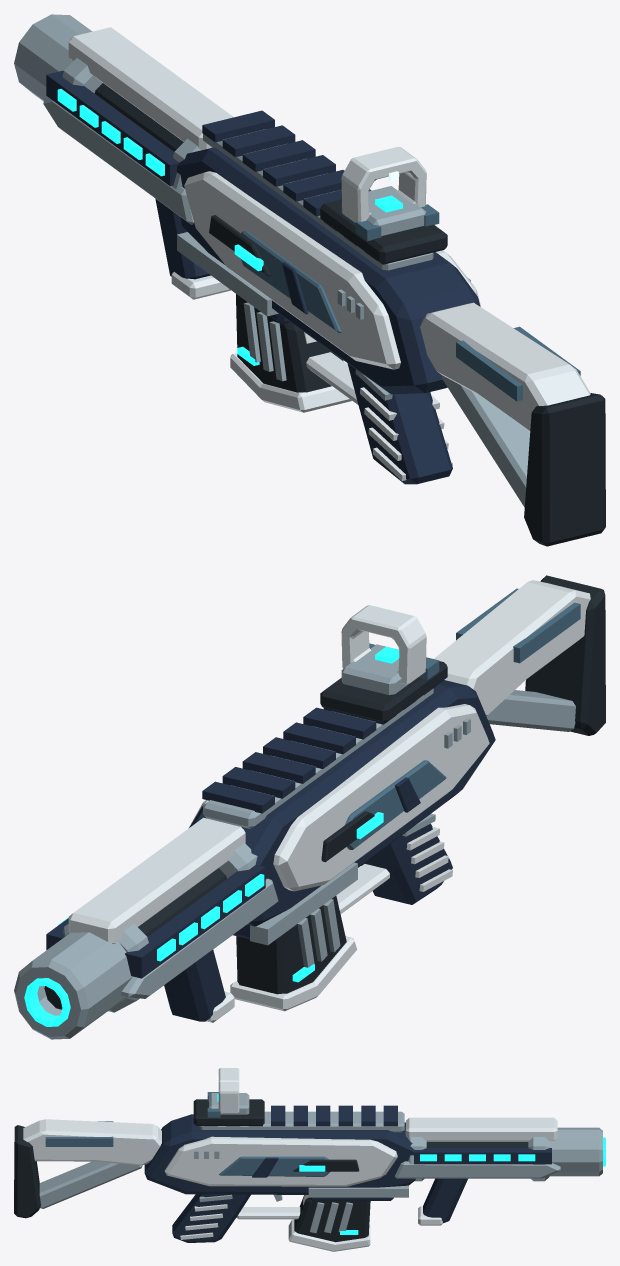
The model's file is helion_pulse_rifle.glb.
The picture shows the model from 3 angles, top to bottom: view 1: azimuth 30°, elevation 25°; view 2: azimuth 150°, elevation 25°; view 3: azimuth 270°, elevation 25°; orthographic projection. The views are drawn at different scales.
Visible parts, largest first — view 1: Upper and lower receiver | Geometry, Skeletal stock | Geometry, Pulse accelerator shroud | Geometry, Open reflex optic | Geometry, Grip and finger loop | Geometry, Removable energy magazine | Geometry, Forward muzzle | Geometry; view 2: Upper and lower receiver | Geometry, Pulse accelerator shroud | Geometry, Skeletal stock | Geometry, Open reflex optic | Geometry, Forward muzzle | Geometry, Removable energy magazine | Geometry, Grip and finger loop | Geometry; view 3: Upper and lower receiver | Geometry, Pulse accelerator shroud | Geometry, Skeletal stock | Geometry, Removable energy magazine | Geometry, Grip and finger loop | Geometry, Open reflex optic | Geometry, Forward muzzle | Geometry.
Part boxes in pixels (x1,y1,x2,y2): Upper and lower receiver | Geometry: (177,110,480,394); Skeletal stock | Geometry: (420,302,605,546); Pulse accelerator shroud | Geometry: (43,27,233,299); Open reflex optic | Geometry: (320,146,447,264); Grip and finger loop | Geometry: (304,332,452,484); Removable energy magazine | Geometry: (230,294,351,412); Forward muzzle | Geometry: (14,14,92,100); Upper and lower receiver | Geometry: (188,680,495,945); Pulse accelerator shroud | Geometry: (46,817,278,1022); Skeletal stock | Geometry: (434,575,605,735); Open reflex optic | Geometry: (320,605,447,722); Forward muzzle | Geometry: (14,932,132,1039); Removable energy magazine | Geometry: (230,896,357,1011); Grip and finger loop | Geometry: (336,813,452,913); Upper and lower receiver | Geometry: (144,1105,415,1197); Pulse accelerator shroud | Geometry: (394,1117,560,1225); Skeletal stock | Geometry: (14,1119,161,1218); Removable energy magazine | Geometry: (288,1195,393,1251); Grip and finger loop | Geometry: (172,1194,308,1242); Open reflex optic | Geometry: (193,1068,264,1125); Forward muzzle | Geometry: (549,1127,605,1176).
Size of the model in its own units: 0.12 by 0.28 by 0.88.
